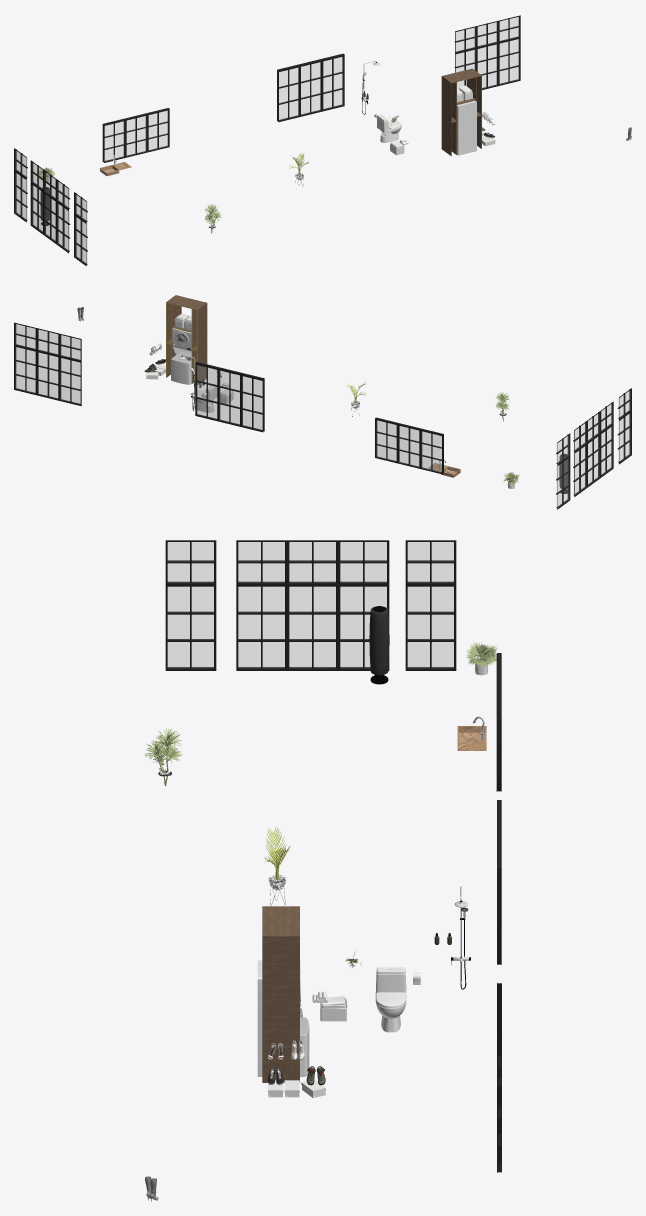
Rendered from casa-completa-03.glb.
3 views of the same model, one above another, from view 1: azimuth 30°, elevation 25°; view 2: azimuth 150°, elevation 25°; view 3: azimuth 270°, elevation 25° (orthographic). The views are drawn at different scales.
Parts seen in each view (by area): view 1: Windows, BathroomWashing, Plants, Toilet; view 2: Windows, BathroomWashing, Plants, Shoes, Toilet; view 3: Windows, BathroomWashing, Plants, Shoes, Toilet, StandSpeaker, BathroomFurnitures.
Part boxes in pixels (left/top/right/bottom): Windows: left=14, top=15, right=520, bottom=266; BathroomWashing: left=441, top=68, right=481, bottom=156; Plants: left=39, top=153, right=308, bottom=233; Toilet: left=377, top=114, right=401, bottom=142; Windows: left=14, top=322, right=631, bottom=509; BathroomWashing: left=166, top=295, right=207, bottom=384; Plants: left=347, top=383, right=519, bottom=488; Shoes: left=77, top=307, right=165, bottom=379; Toilet: left=192, top=383, right=217, bottom=412; Windows: left=165, top=540, right=501, bottom=1172; BathroomWashing: left=257, top=906, right=309, bottom=1082; Plants: left=145, top=642, right=497, bottom=905; Shoes: left=145, top=1040, right=325, bottom=1201; Toilet: left=375, top=967, right=406, bottom=1032; StandSpeaker: left=369, top=606, right=389, bottom=684; BathroomFurnitures: left=312, top=886, right=470, bottom=1003.
Size of the model in its own units: 23.75 by 3.08 by 6.79.
30 materials, 12 textured.
